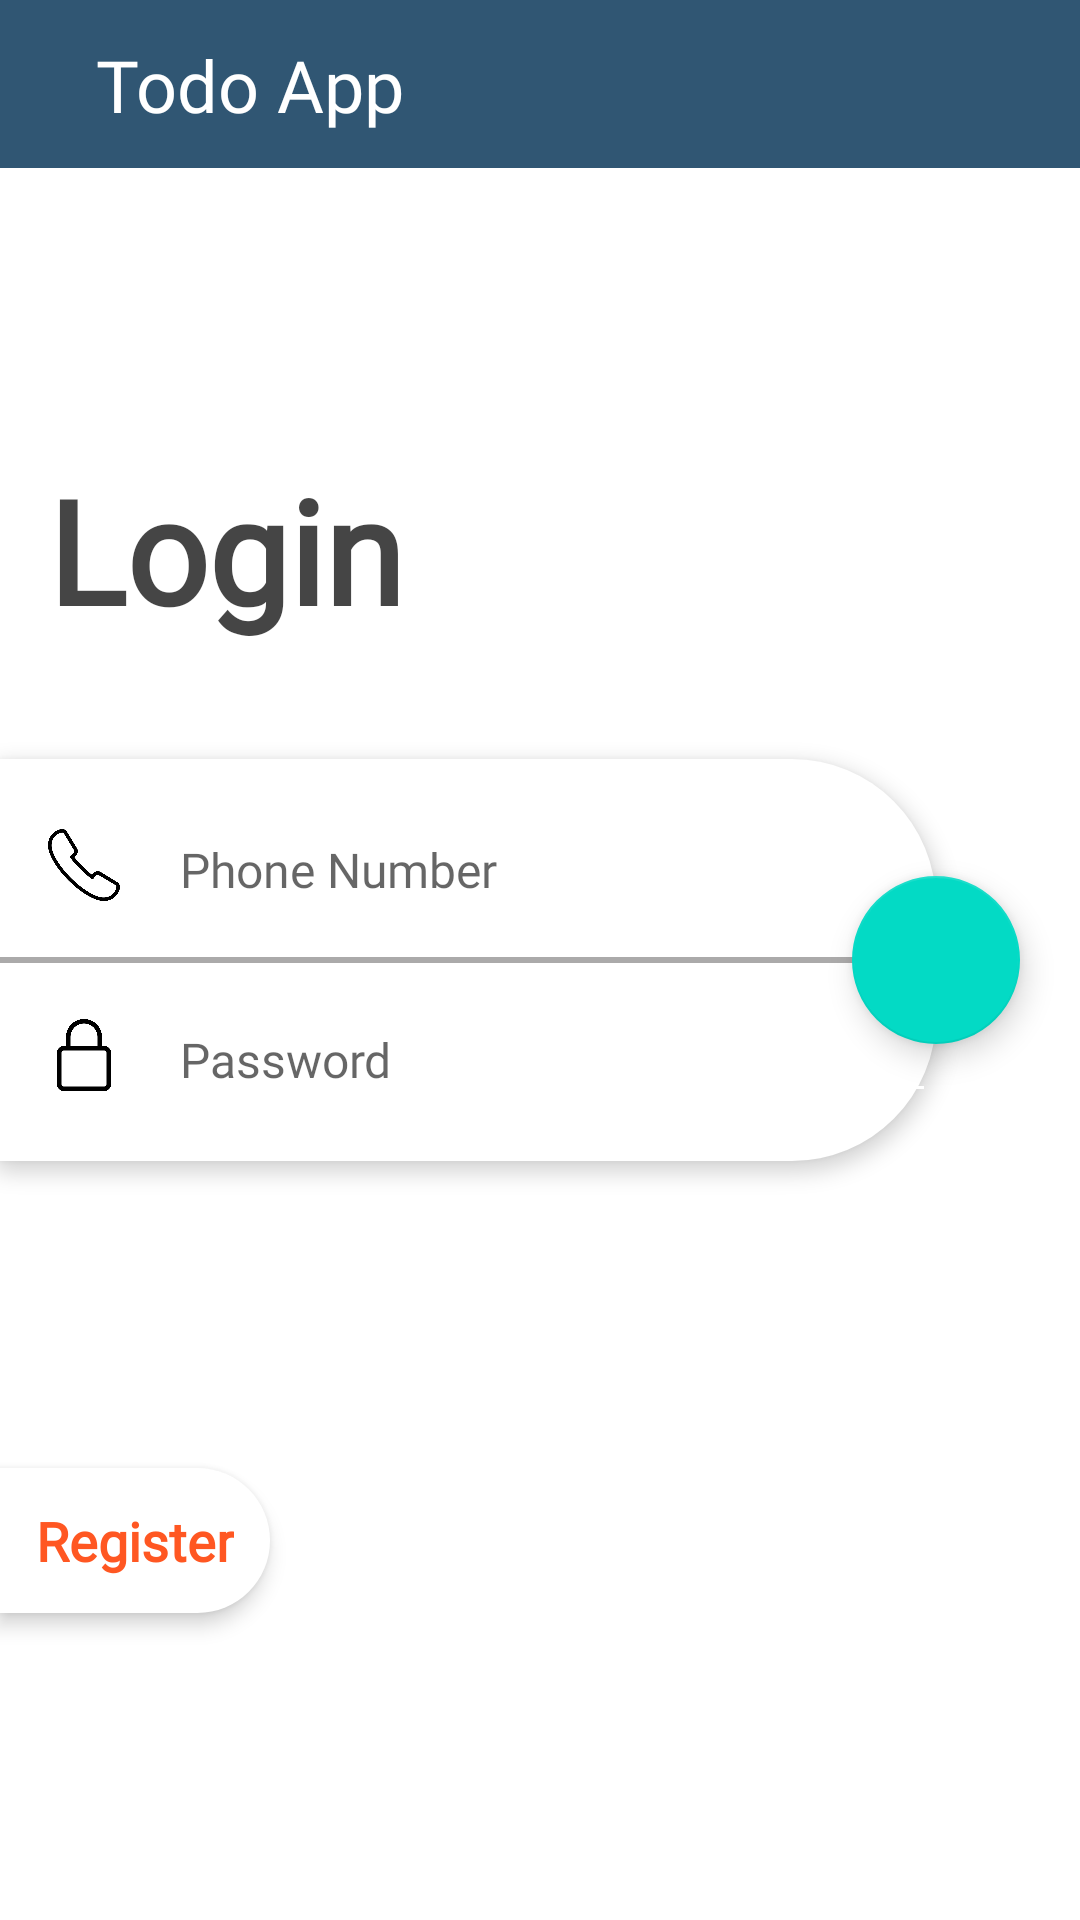

Icon bounding boxes for this 1080w x 1920h phone screenshot, format rect(x1, y1, x2, y2):
call: rect(48, 829, 120, 901)
lock: rect(57, 1019, 111, 1091)
